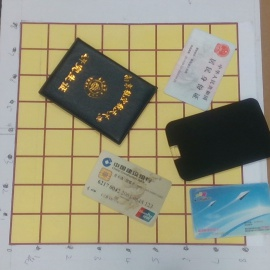card: (80, 149, 172, 227), (164, 26, 236, 111), (185, 181, 270, 239)
